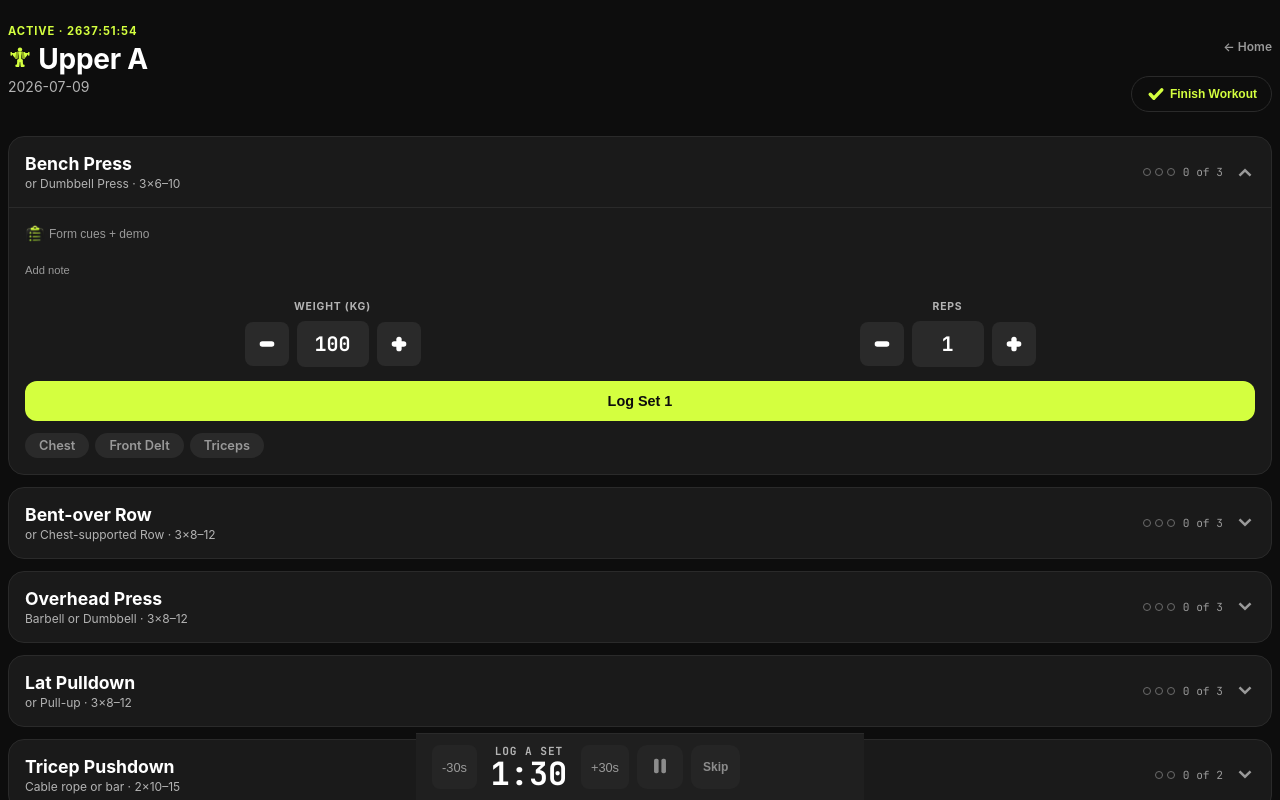
Workout page › a historical PB sets the bar for the live PR toast
Expected: the text "Bench Press" is shown, [25, 153, 132, 174]
Expected: the number field showing "100" is shown, [296, 321, 368, 367]
Click the button named "increase weight" at coordinates (398, 344), box [376, 322, 420, 366]
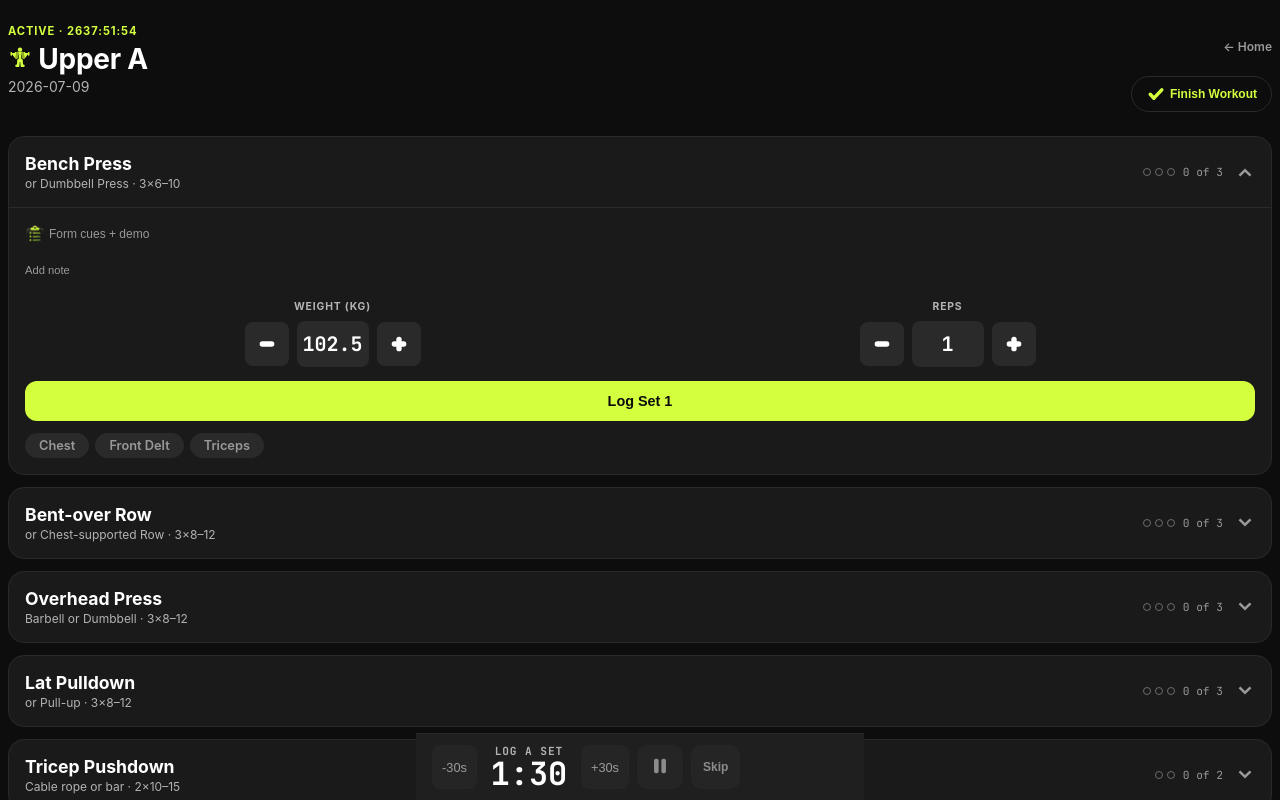
Expected: the number field showing "102.5" is shown, [296, 321, 368, 367]
Click the button "Log Set 1" at coordinates (640, 401), box [25, 381, 1255, 421]
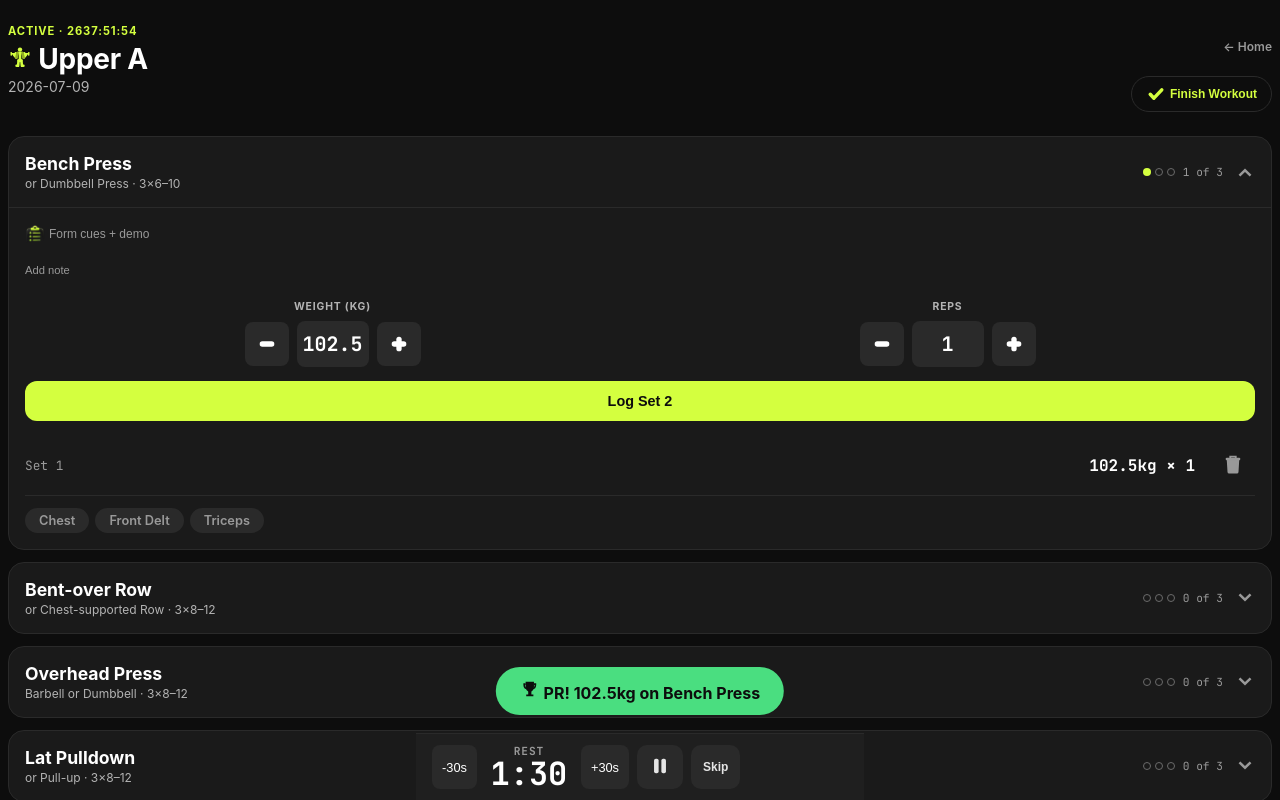
Expected: the message with class "toast" reads "PR! 102.5kg on Bench Press", [496, 667, 784, 715]
